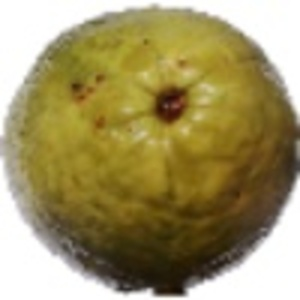goiaba: (3, 7, 294, 282)
